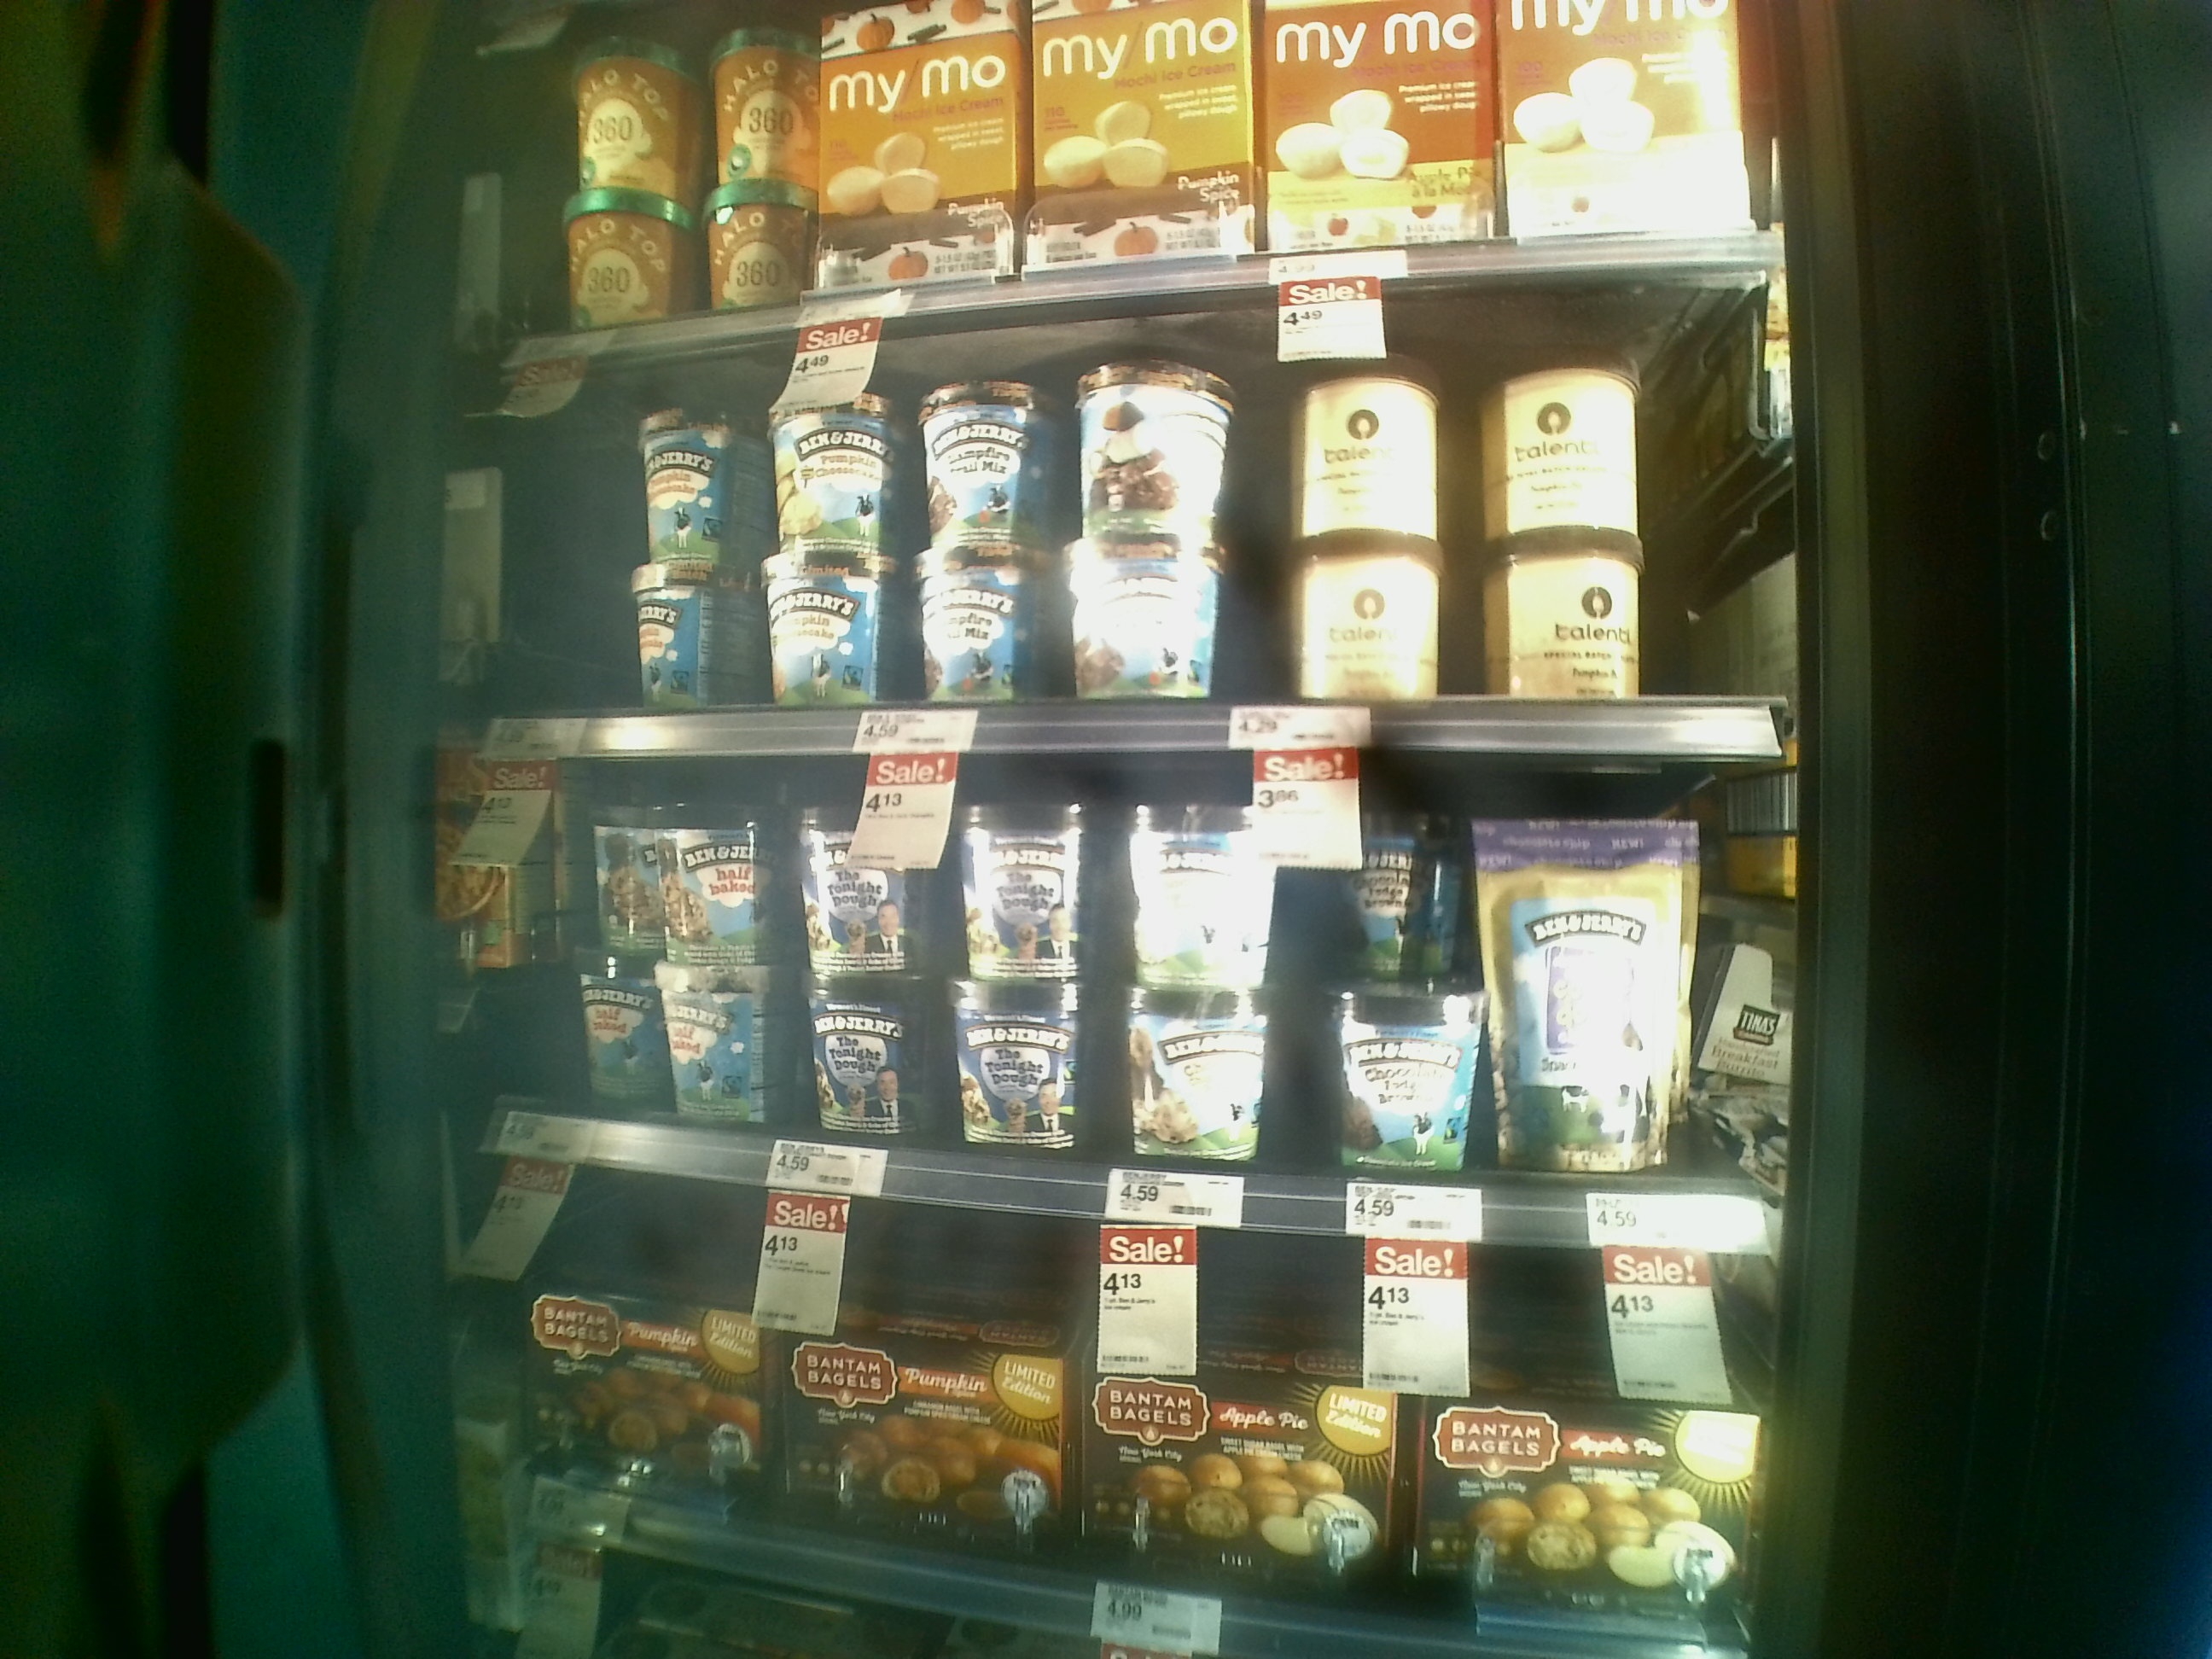shelf: (446, 735, 1810, 1255), (469, 319, 1820, 763)
